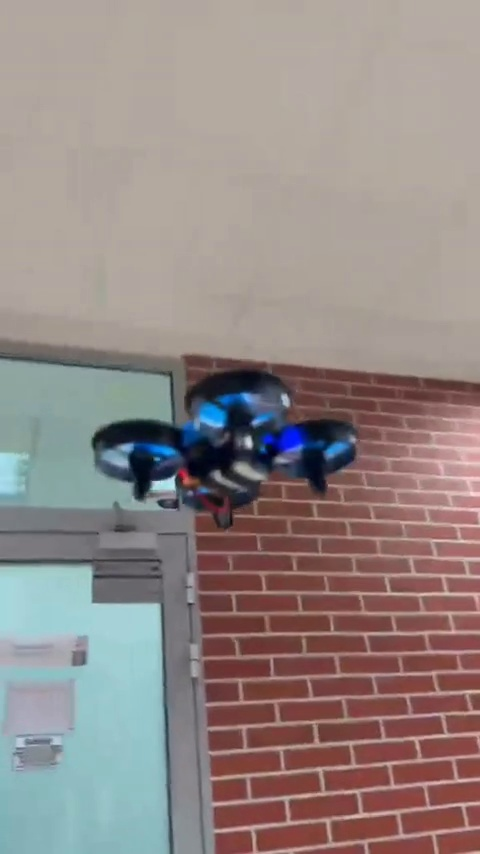drone: (81, 367, 361, 524)
